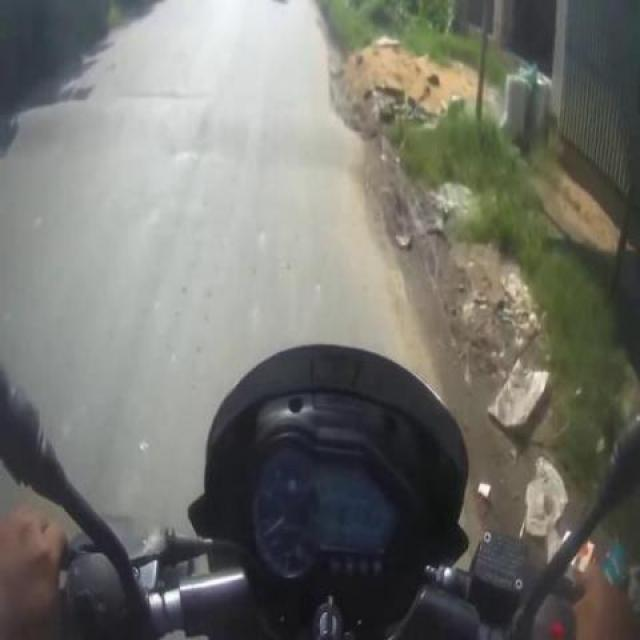Unmarked Bump: (0, 88, 353, 184)
